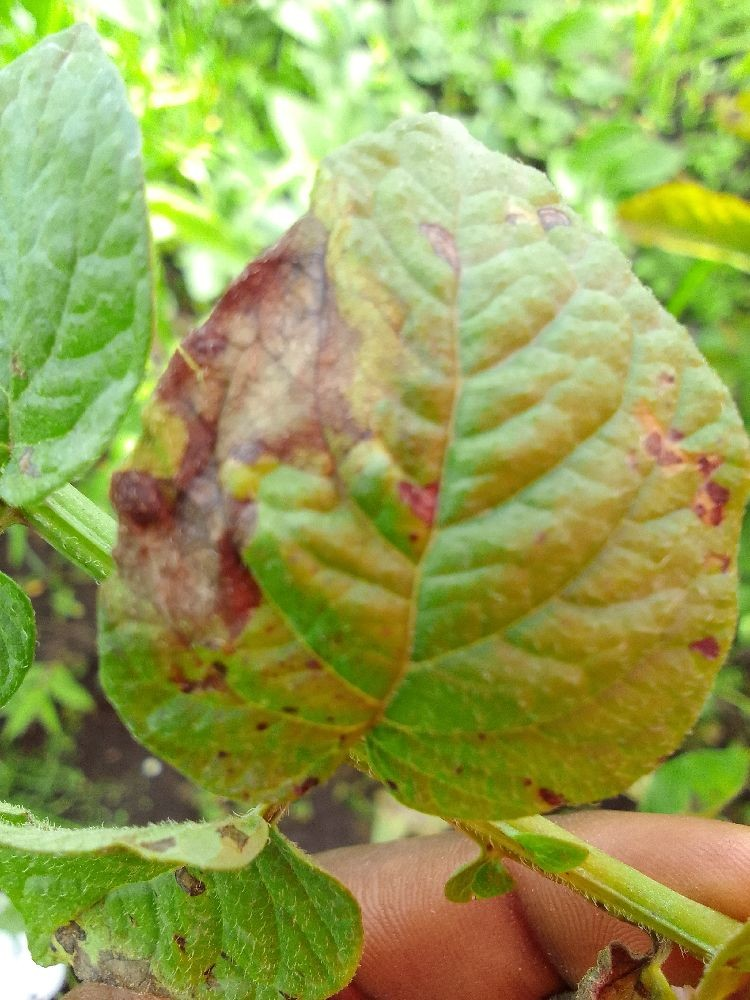late_blight: (40, 904, 234, 999), (463, 272, 588, 383)
